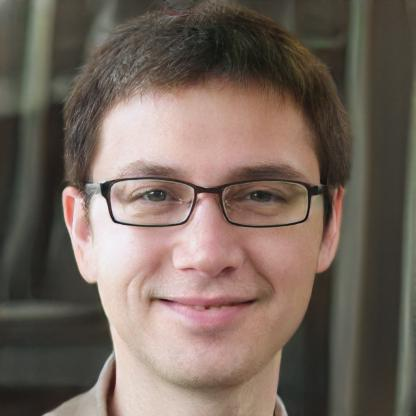glasses: (90, 172, 321, 233)
